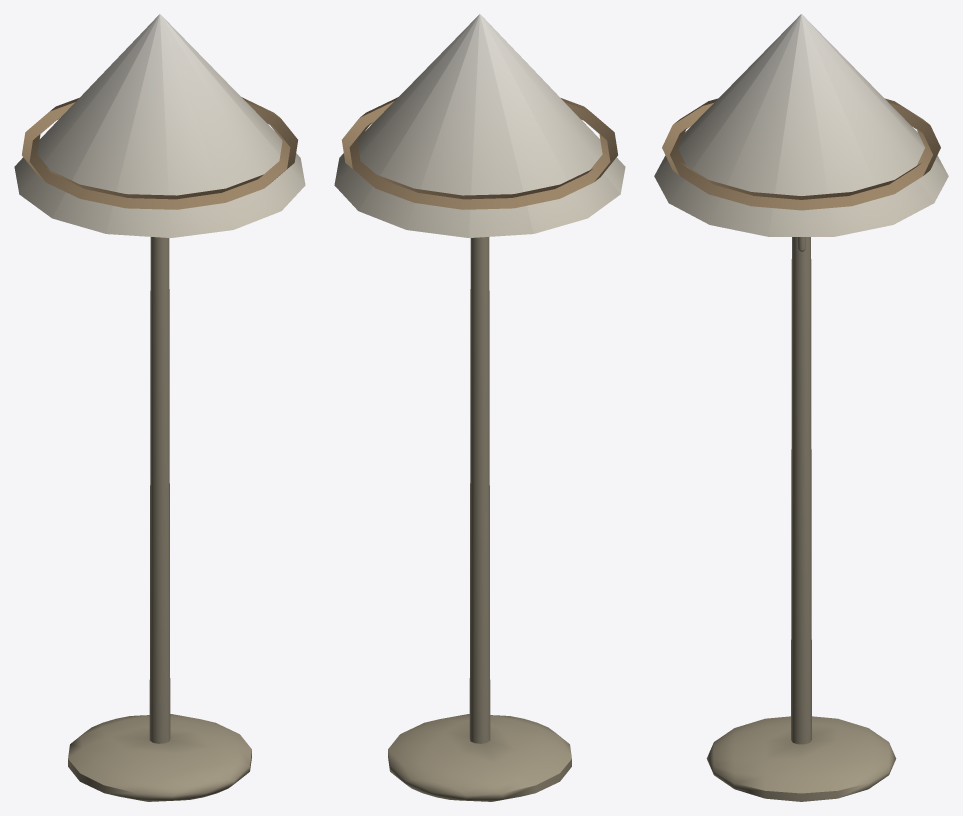
Rendered from floor_lamp.glb.
3 views of the same model, side by side, from view 1: azimuth 30°, elevation 25°; view 2: azimuth 150°, elevation 25°; view 3: azimuth 270°, elevation 25° (orthographic).
Visible parts, largest first — view 1: floor_lamp; view 2: floor_lamp; view 3: floor_lamp.
Part boxes in pixels (x1,y1,x2,y2): floor_lamp: (14,14,305,801); floor_lamp: (334,14,625,801); floor_lamp: (654,14,948,801).
Bounding box in the file's own units: 0.5455 × 1.6 × 0.5595.
